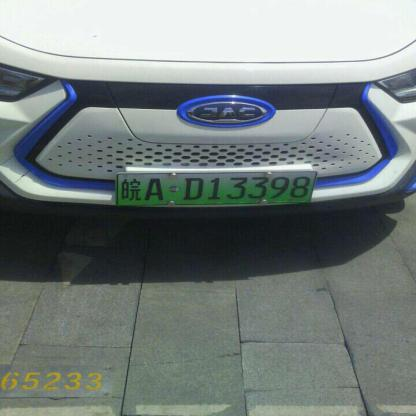lp: (117, 172, 317, 204)
